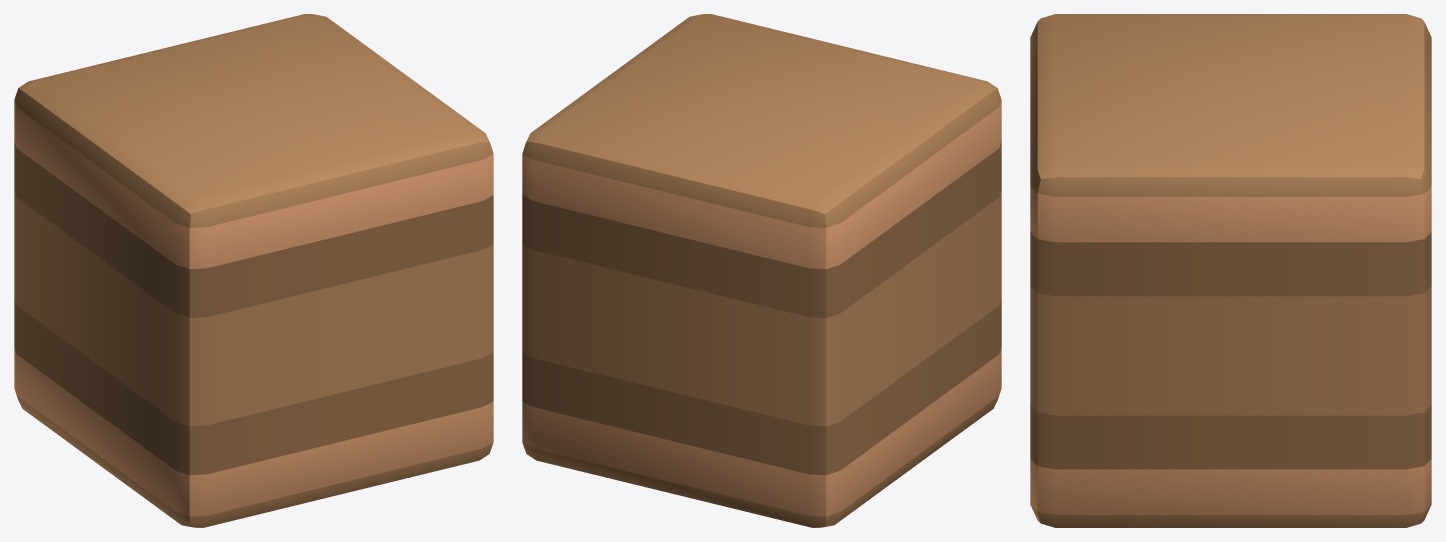
The model's file is Cube_Dirt_Single.gltf.
3 renders of one model, left to right at view 1: azimuth 30°, elevation 25°; view 2: azimuth 150°, elevation 25°; view 3: azimuth 270°, elevation 25°, orthographic. The views are drawn at different scales.
Parts seen in each view (by area): view 1: Cube_Dirt_Single; view 2: Cube_Dirt_Single; view 3: Cube_Dirt_Single.
Boxes of the visible parts, <box> form: Cube_Dirt_Single: <box>14,14,493,527</box>; Cube_Dirt_Single: <box>522,14,1001,527</box>; Cube_Dirt_Single: <box>1030,14,1431,527</box>.
Bounding box in the file's own units: 2 × 2 × 2.
